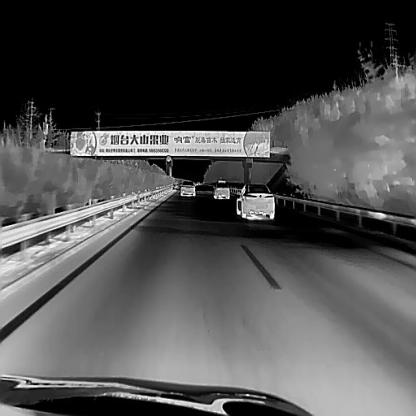car: (236, 182, 274, 219), (212, 178, 229, 198), (178, 179, 196, 195)
